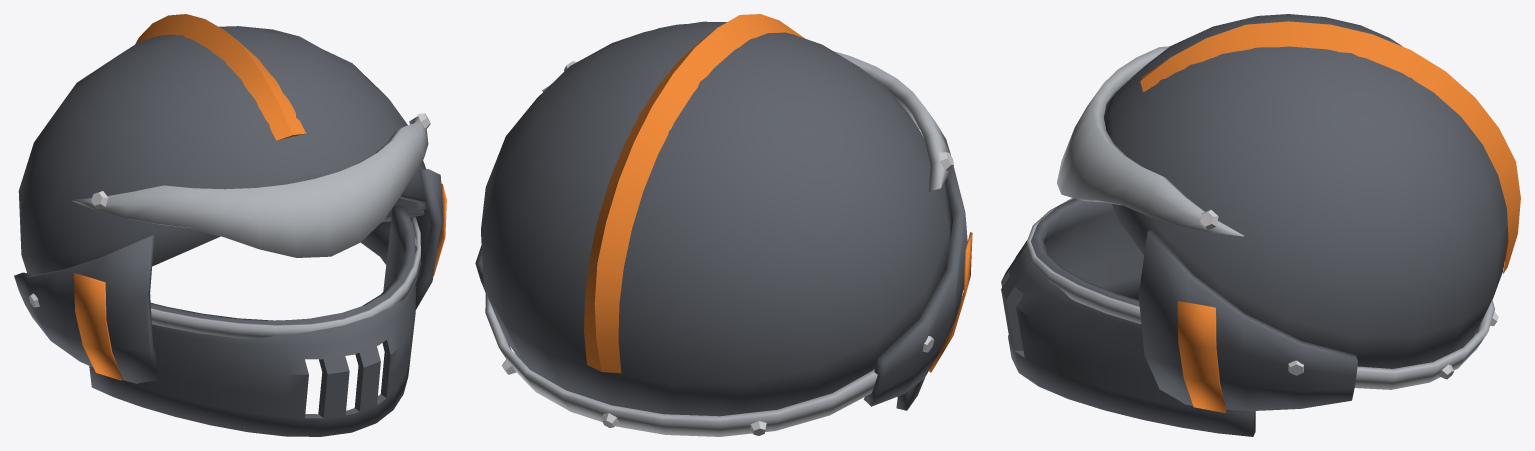
The model's file is CombatHelm.fbx.
The picture shows the model from 3 angles, left to right: view 1: azimuth 30°, elevation 25°; view 2: azimuth 150°, elevation 25°; view 3: azimuth 270°, elevation 25°; orthographic projection. The views are drawn at different scales.
Parts seen in each view (by area): view 1: Dome, Muzzle_Guard, Brow_Plate, Cheek_Guard_R, Crest.001, Muzzle_Lip, Cheek_Guard_L, Cheek_Stripe_R; view 2: Dome, Crest.001, Rim_Trim, Cheek_Guard_R, Brow_Plate, Cheek_Stripe_R; view 3: Dome, Muzzle_Guard, Cheek_Guard_L, Crest.001, Brow_Plate, Cheek_Stripe_L, Rim_Trim, Muzzle_Lip.
Boxes of the visible parts, x1,y1,x2,y2 form: Dome: (18, 26, 427, 274); Muzzle_Guard: (89, 205, 415, 436); Brow_Plate: (72, 116, 428, 257); Cheek_Guard_R: (14, 234, 156, 383); Crest.001: (135, 14, 306, 140); Muzzle_Lip: (151, 217, 420, 338); Cheek_Guard_L: (361, 169, 443, 309); Cheek_Stripe_R: (74, 273, 122, 380); Dome: (481, 21, 952, 416); Crest.001: (584, 14, 804, 373); Rim_Trim: (485, 293, 877, 436); Cheek_Guard_R: (863, 166, 967, 406); Brow_Plate: (542, 51, 950, 192); Cheek_Stripe_R: (929, 232, 972, 372); Dome: (1104, 14, 1507, 368); Muzzle_Guard: (1001, 198, 1255, 436); Cheek_Guard_L: (1138, 229, 1357, 411); Crest.001: (1140, 21, 1520, 273); Brow_Plate: (1057, 46, 1245, 236); Cheek_Stripe_L: (1177, 300, 1226, 412); Rim_Trim: (1354, 300, 1494, 389); Muzzle_Lip: (1027, 198, 1141, 324).
Bounding box in the file's own units: 40.71 × 31.54 × 44.13.
